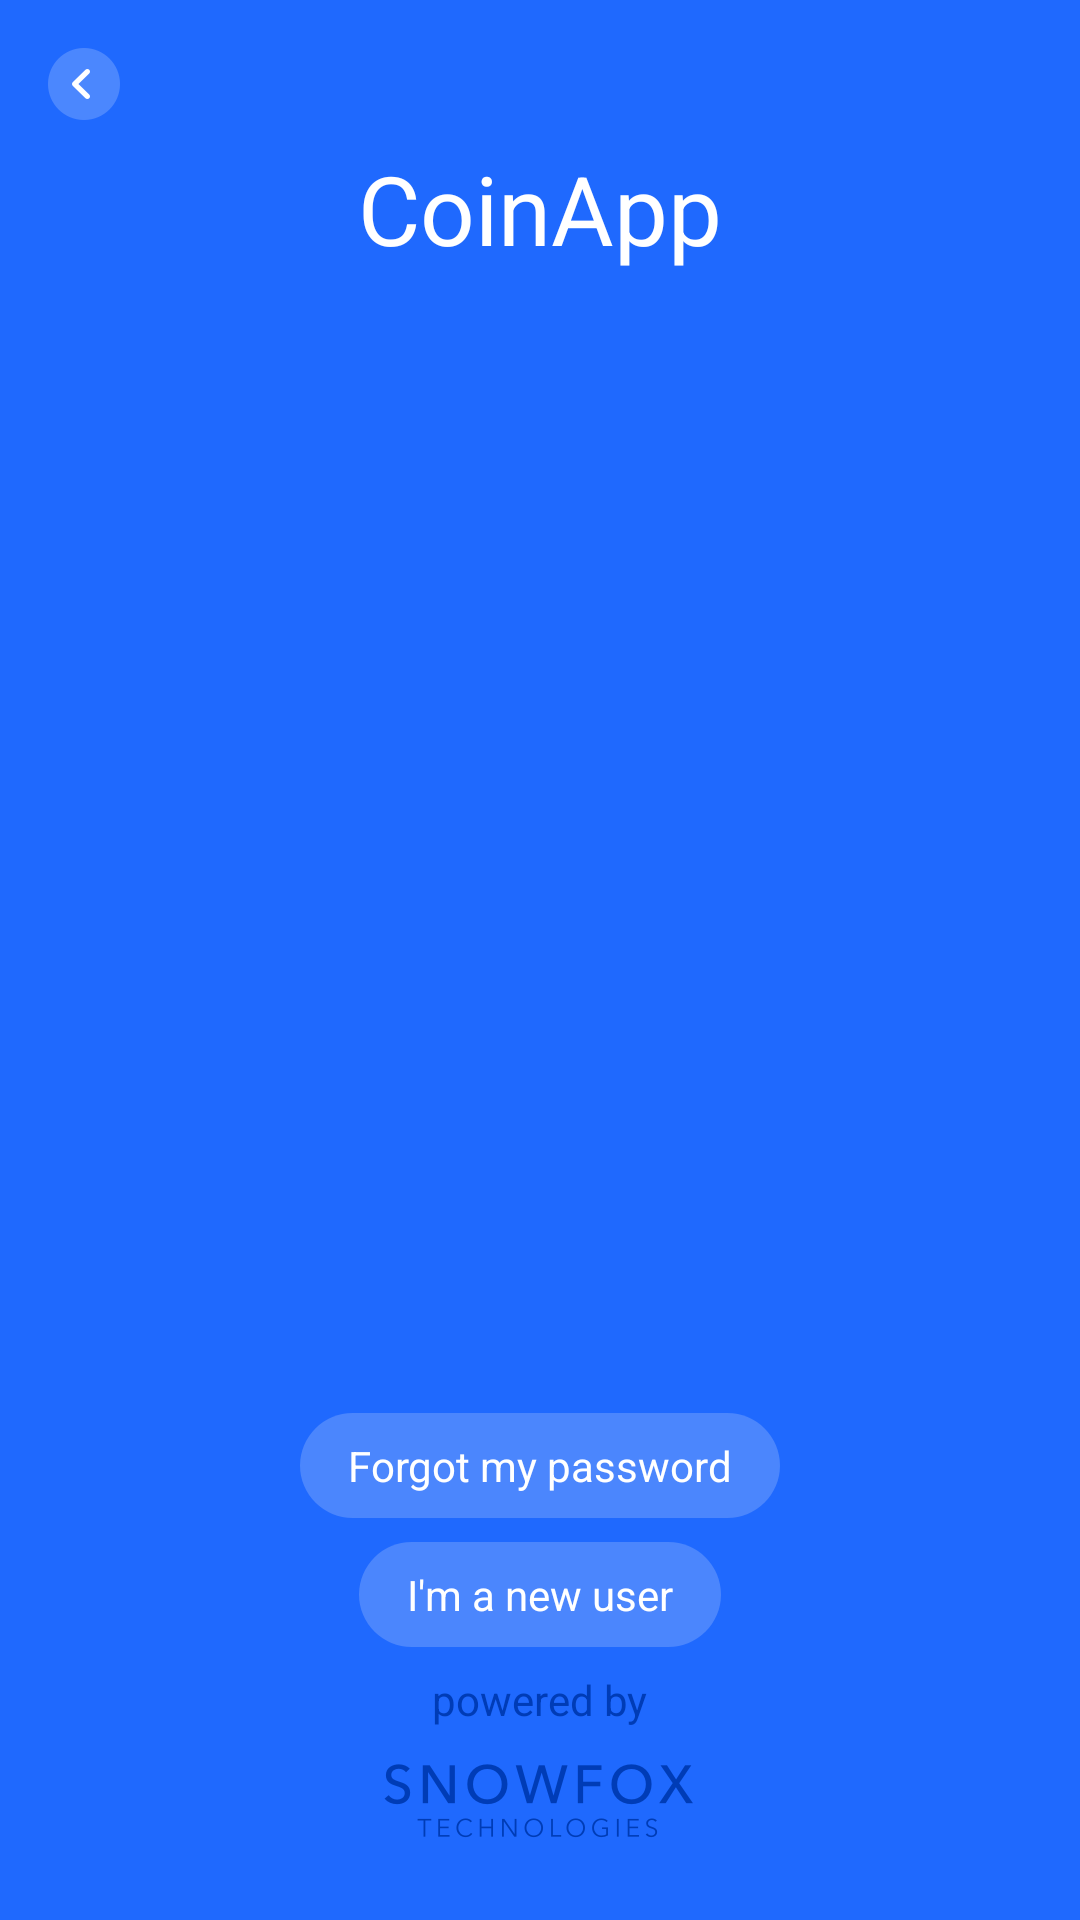

Named icons in this screenshot (1080x1920) and their bounding boxes, region(x1, y1, x2, y2):
back: region(48, 48, 120, 120)
